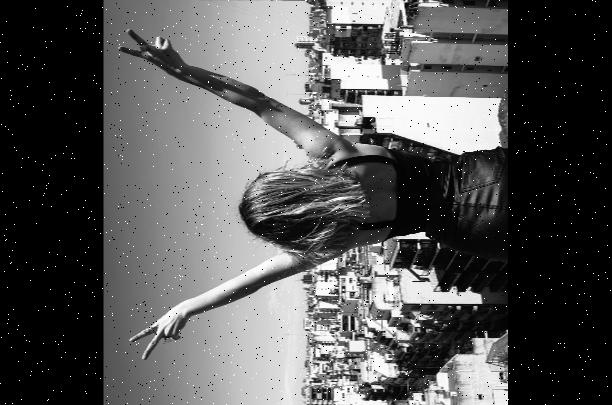Scissors: (128, 304, 188, 358), (118, 28, 183, 70)
